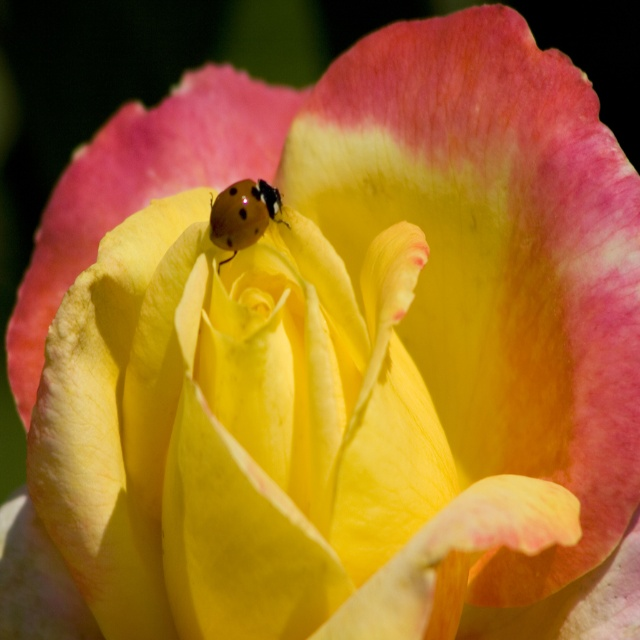Ladybug: (208, 181, 292, 275)
